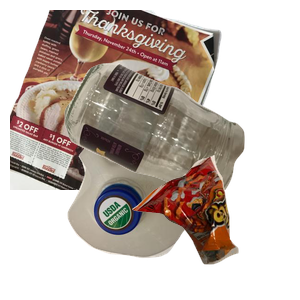glass: (62, 60, 300, 240)
paper: (10, 10, 224, 190)
plastic: (65, 123, 257, 300)
trash: (130, 153, 300, 300)
